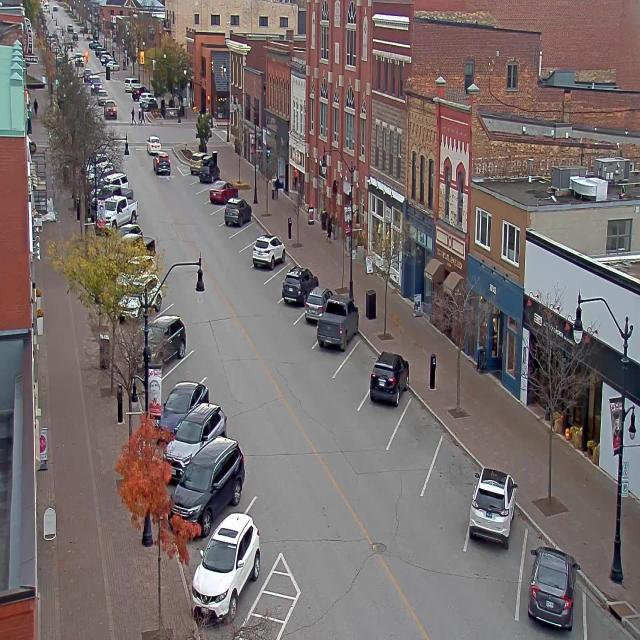available: (426, 428, 476, 519), (394, 387, 446, 468), (579, 586, 639, 640), (159, 340, 210, 390), (342, 331, 379, 390), (262, 258, 292, 297), (240, 212, 263, 245), (210, 204, 228, 225), (196, 185, 212, 205)
occupied: (191, 510, 268, 618), (169, 435, 245, 538), (527, 545, 579, 630), (172, 390, 228, 467), (468, 466, 518, 548), (154, 379, 208, 441), (368, 350, 409, 406), (142, 313, 187, 364), (316, 297, 358, 351), (282, 264, 318, 305), (301, 285, 332, 327), (252, 232, 285, 269), (224, 197, 251, 227), (208, 176, 234, 205), (198, 159, 220, 182), (188, 153, 204, 175)
